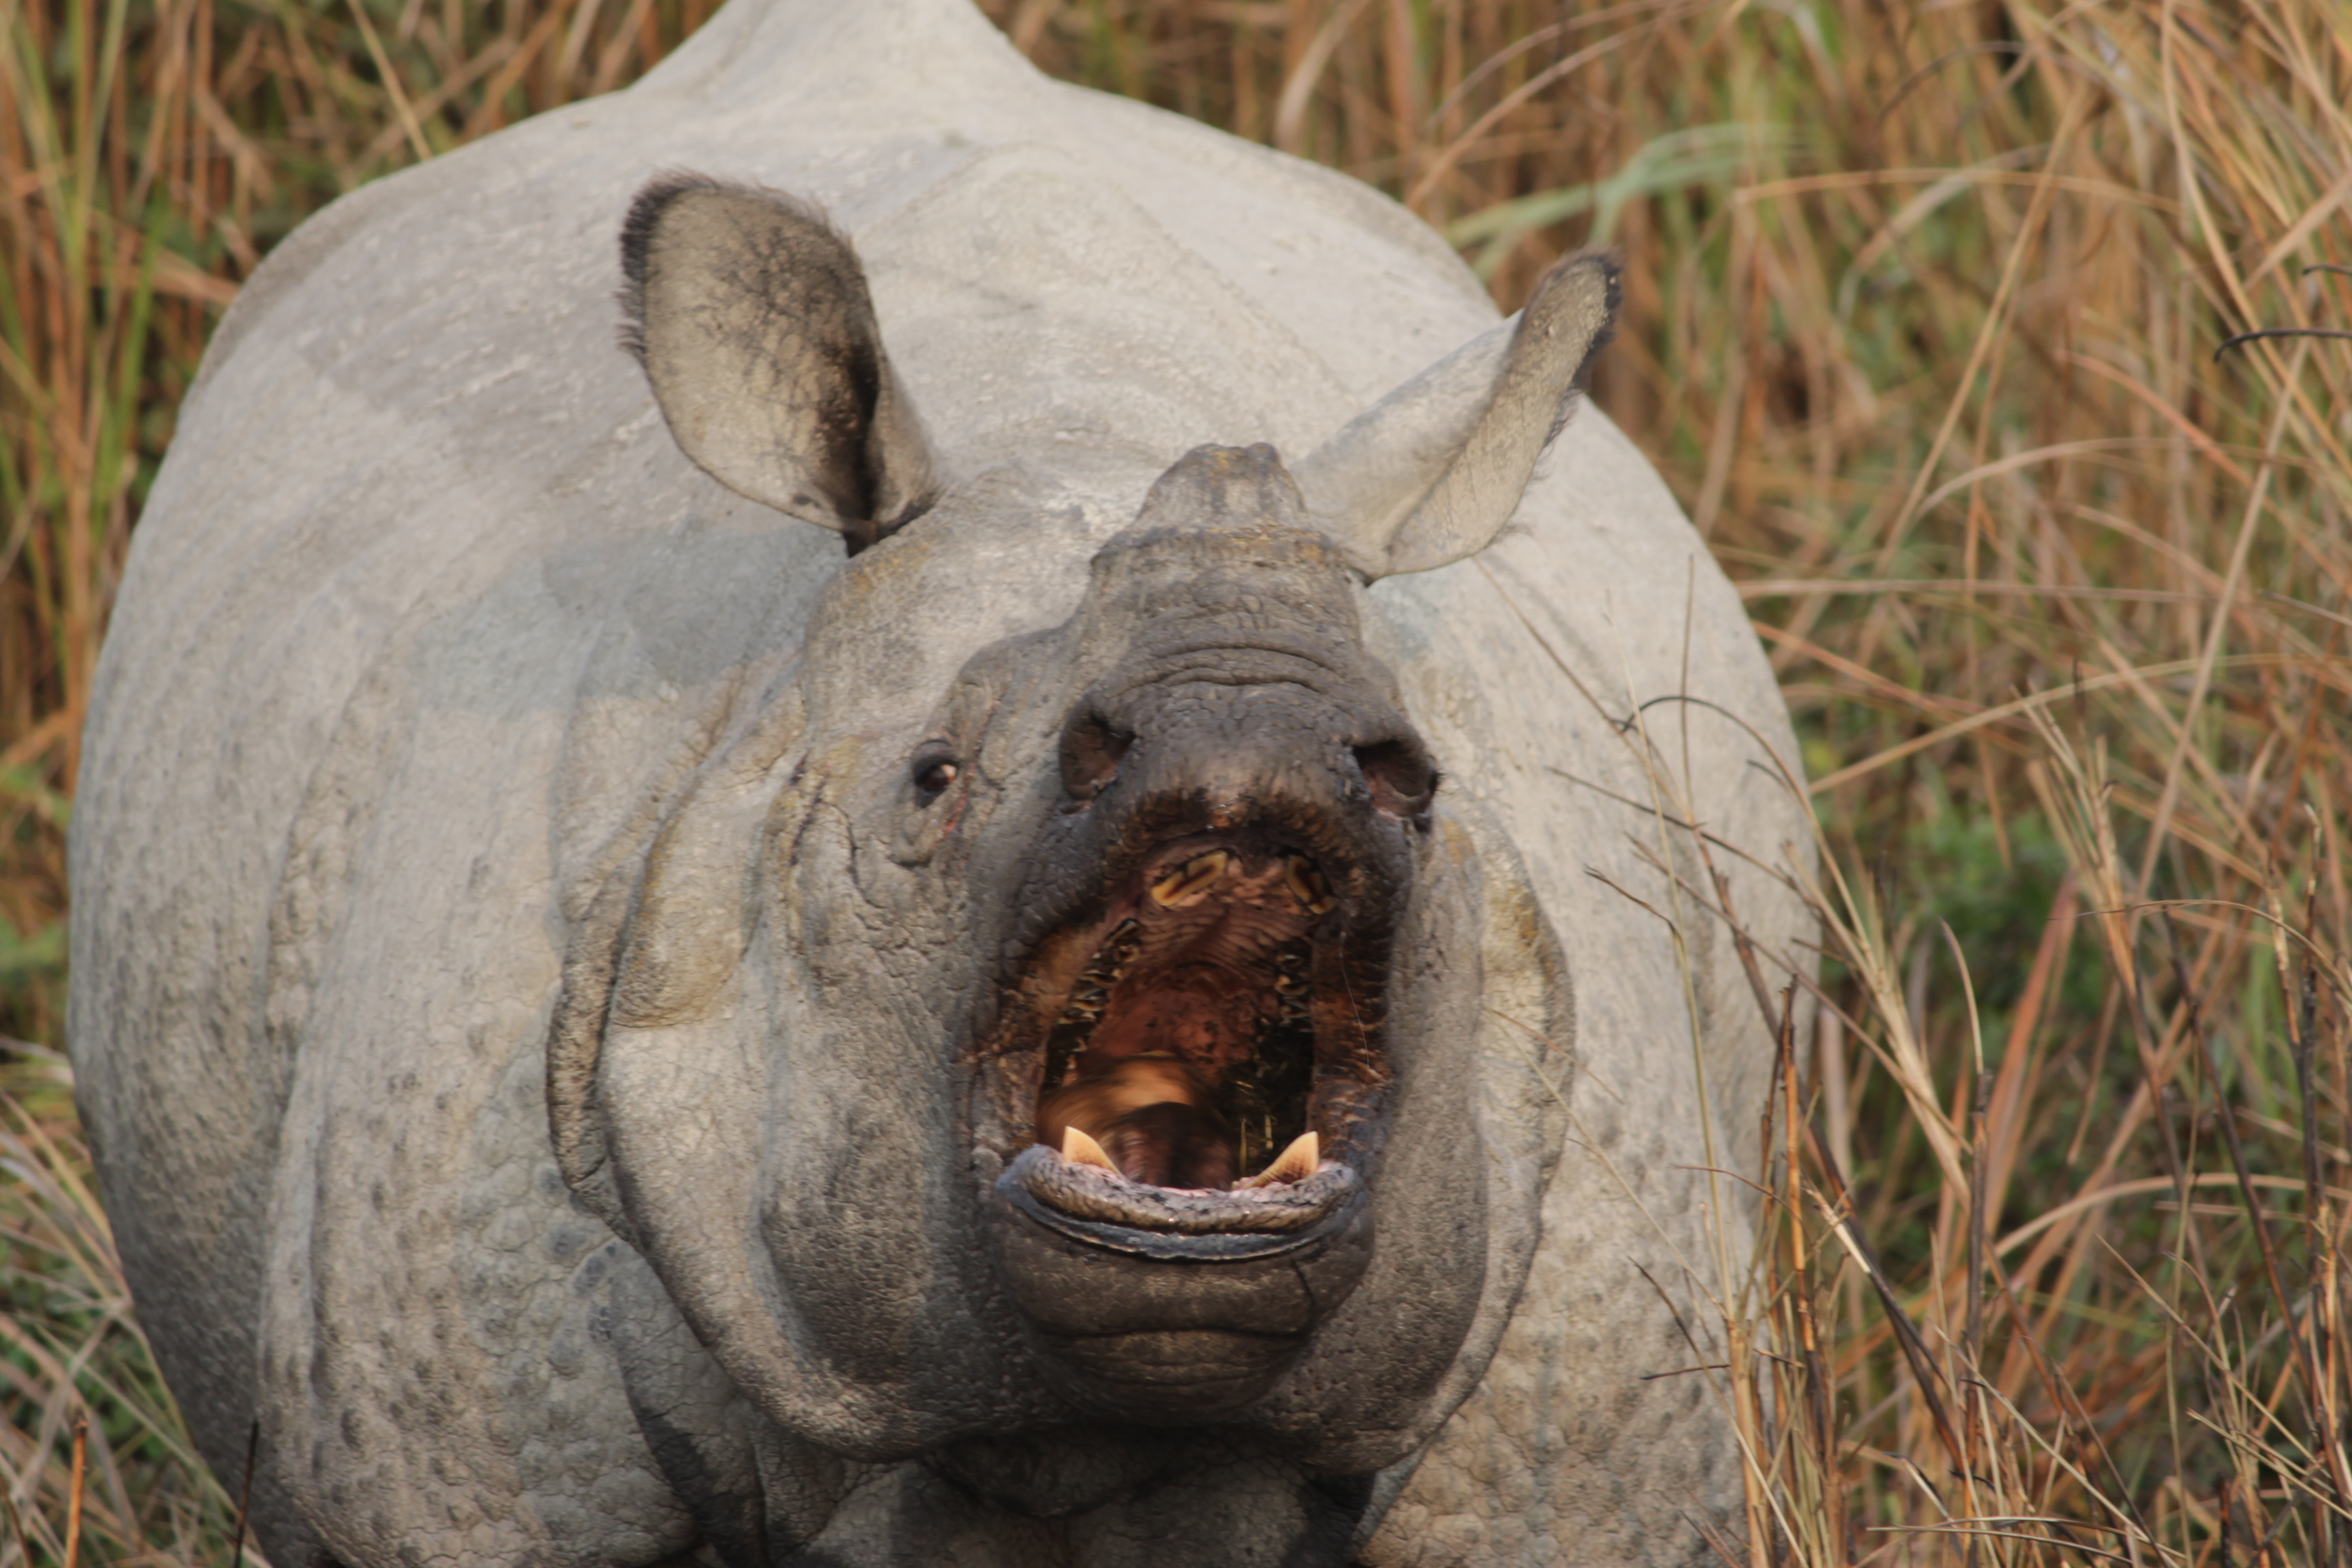rhinoceros: (58, 5, 1806, 1568)
